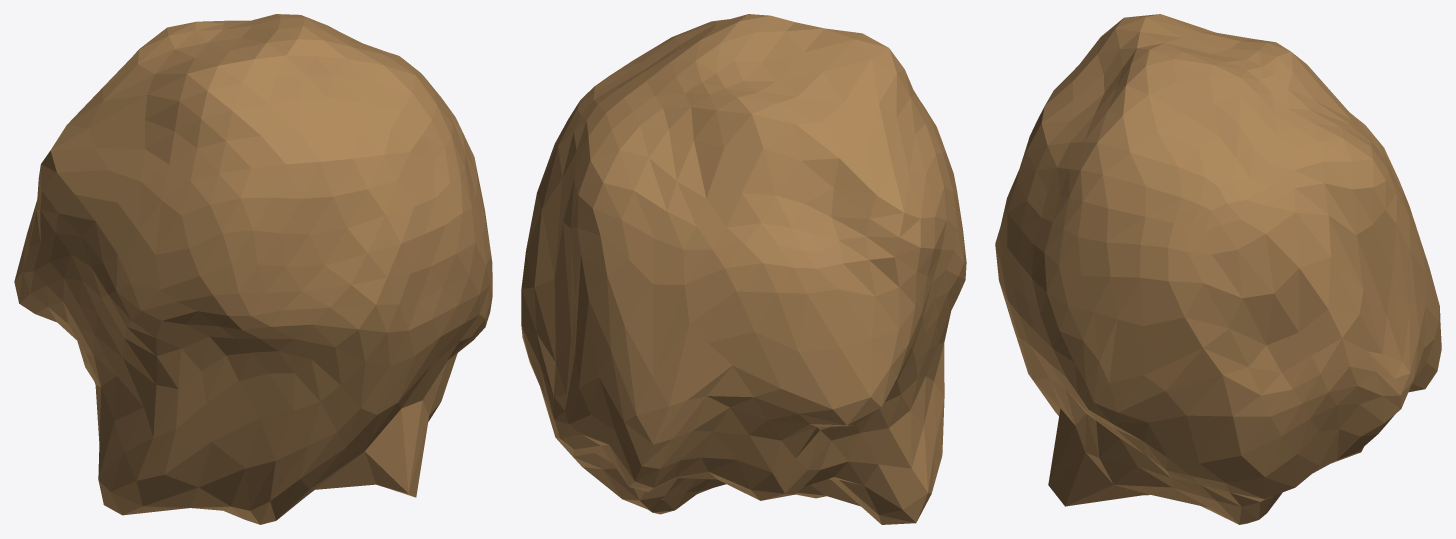
Rendered from Rock.fbx.
3 views of the same model, side by side, from view 1: azimuth 30°, elevation 25°; view 2: azimuth 150°, elevation 25°; view 3: azimuth 270°, elevation 25° (orthographic). The views are drawn at different scales.
Parts seen in each view (by area): view 1: Icosphere; view 2: Icosphere; view 3: Icosphere.
Boxes of the visible parts, bbox=[...] form: Icosphere: bbox=[14, 14, 492, 524]; Icosphere: bbox=[521, 14, 966, 524]; Icosphere: bbox=[995, 14, 1441, 524].
Bounding box in the file's own units: 3973 × 4595 × 4162.
